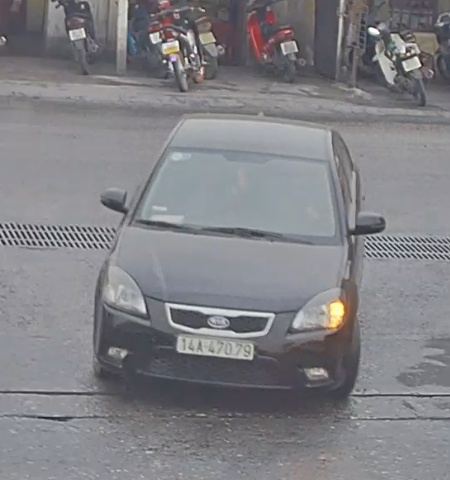vehicle plate: (174, 322, 258, 362)
